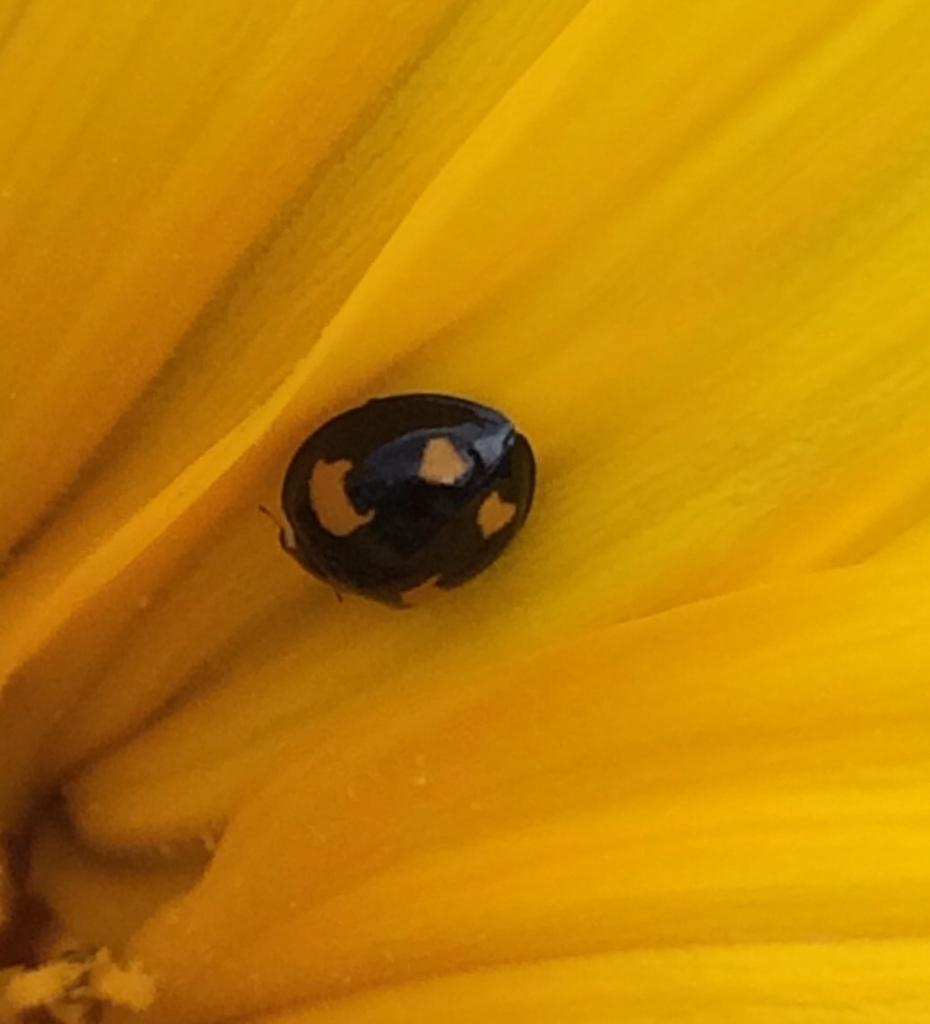ladybug: (254, 389, 544, 614)
